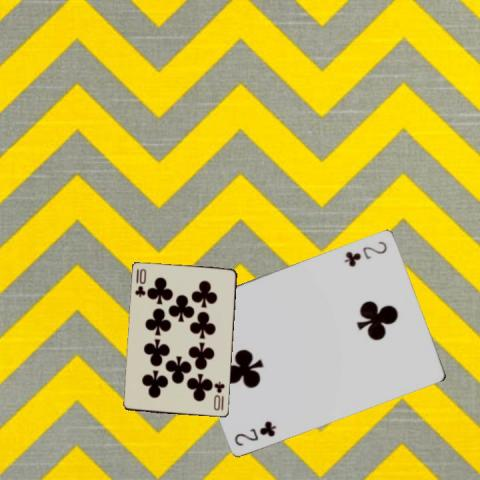10c: (211, 379, 226, 412), (132, 266, 147, 299)
2c: (341, 237, 389, 268), (231, 418, 278, 447)
